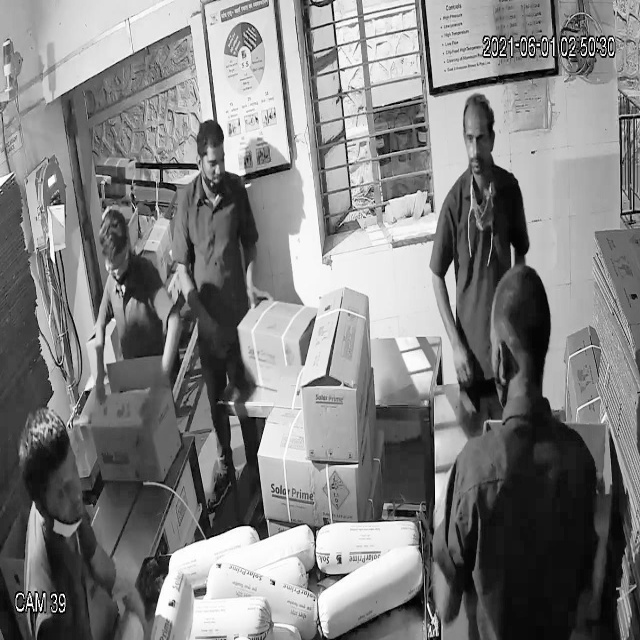Gafas: (100, 249, 134, 282)
Sin_gafas: (46, 450, 82, 520), (457, 120, 500, 155), (192, 142, 230, 179)
